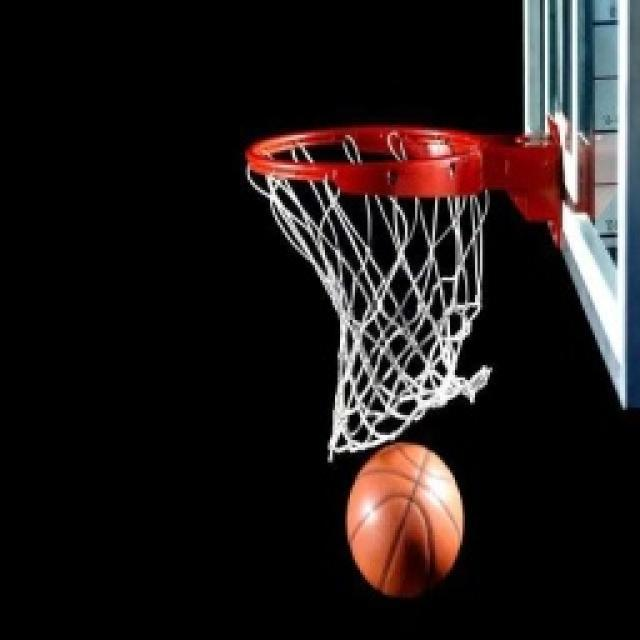rim: (346, 437, 468, 604)
